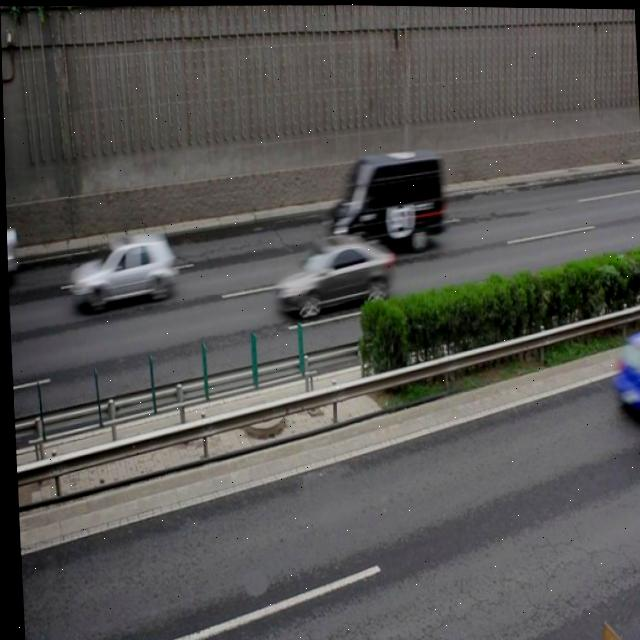car: (272, 238, 394, 314), (65, 233, 175, 314), (609, 327, 640, 416), (5, 221, 17, 277)
truck: (323, 149, 446, 256)
